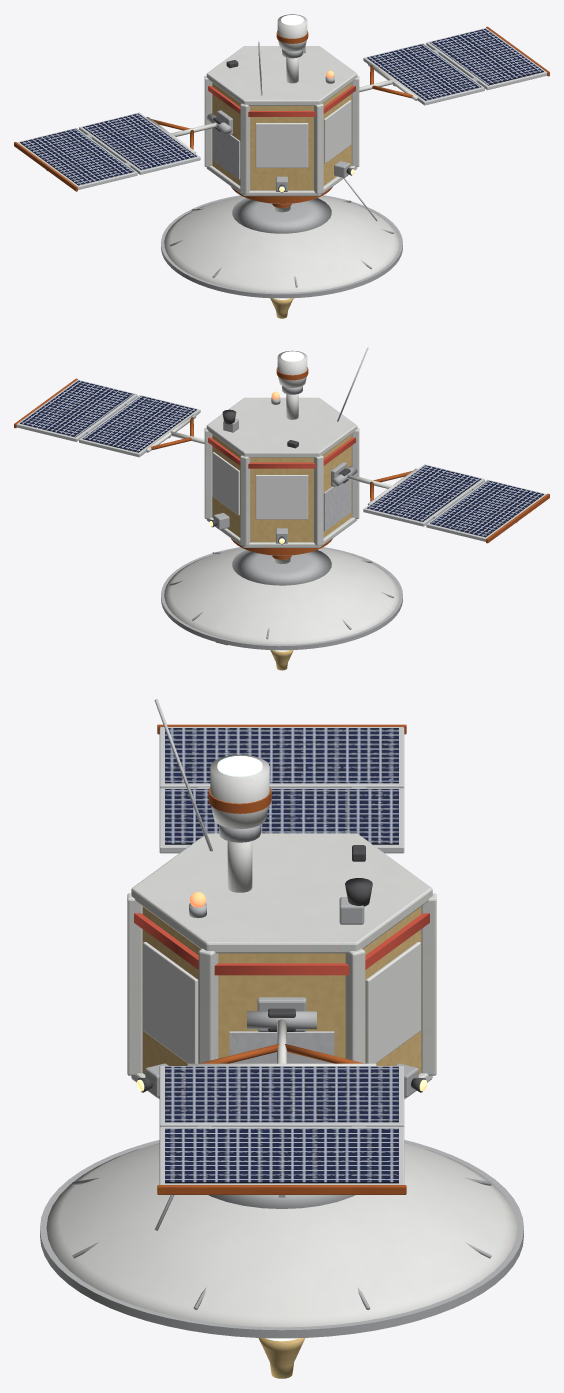
Rendered from relay_satellite_prewarp.glb.
3 renders of one model, top to bottom at view 1: azimuth 30°, elevation 25°; view 2: azimuth 150°, elevation 25°; view 3: azimuth 270°, elevation 25°, orthographic. The views are drawn at different scales.
Parts seen in each view (by area): view 1: Body, Dish, PanelL, PanelR; view 2: Body, Dish, PanelL, PanelR; view 3: Body, Dish, PanelR, PanelL, Horn.
Boxes of the visible parts, x1,y1,x2,y2 form: Body: [204, 14, 377, 221]; Dish: [161, 195, 402, 298]; PanelL: [14, 112, 231, 191]; PanelR: [359, 26, 549, 105]; Body: [204, 347, 368, 563]; Dish: [161, 547, 402, 650]; PanelL: [332, 464, 549, 543]; PanelR: [14, 378, 204, 457]; Body: [127, 699, 436, 1230]; Dish: [40, 1140, 523, 1338]; PanelR: [157, 1008, 406, 1197]; PanelL: [157, 724, 406, 853]; Horn: [258, 1338, 305, 1378].
Size of the model in its own units: 3.13 by 1.96 by 1.38.
Materials: 18 (6 with a texture image).
